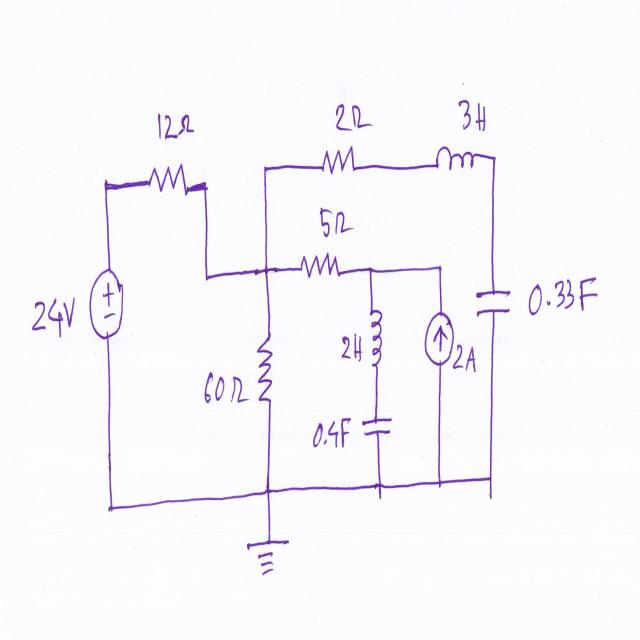capacitor: (472, 276, 515, 328), (357, 411, 394, 444)
current_source: (420, 301, 456, 371)
ground: (241, 531, 293, 582)
inductor: (430, 143, 480, 182), (367, 309, 388, 386)
resistor: (141, 153, 194, 206), (320, 145, 363, 192), (294, 250, 344, 288), (254, 329, 276, 415)
voltage_source: (84, 264, 125, 346)
